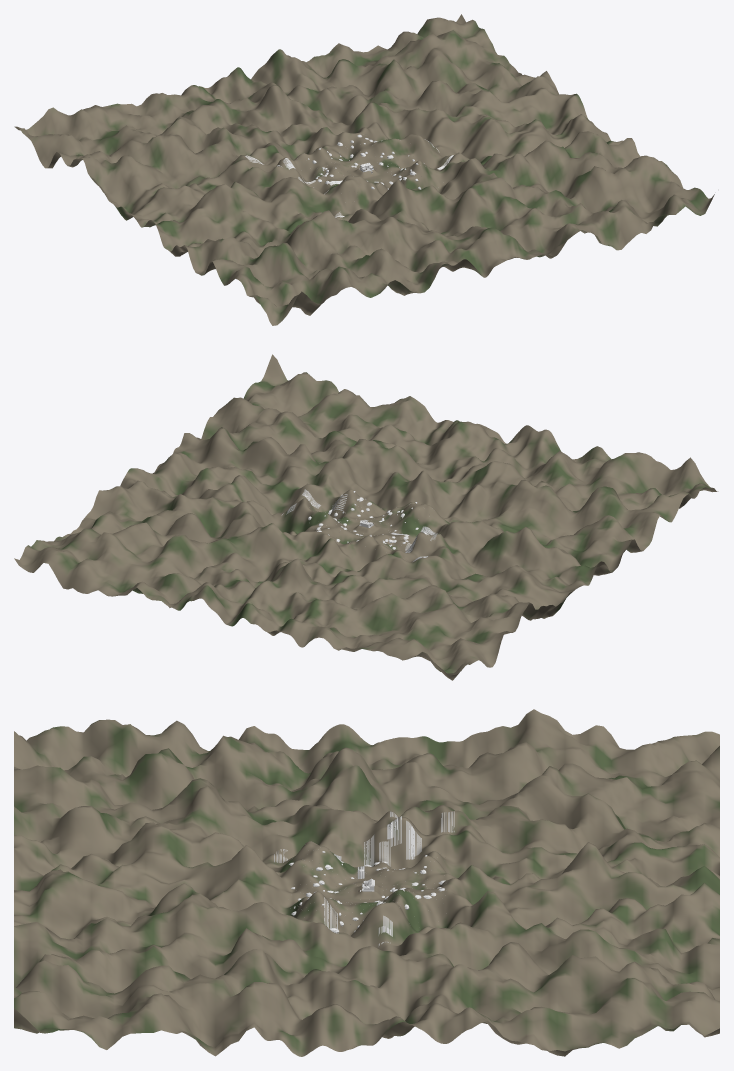
Rendered from ruijin.glb.
3 renders of one model, top to bottom at view 1: azimuth 30°, elevation 25°; view 2: azimuth 150°, elevation 25°; view 3: azimuth 270°, elevation 25°, orthographic. The views are drawn at different scales.
Parts seen in each view (by area): view 1: Continuous terrain, Historic rock; view 2: Continuous terrain; view 3: Continuous terrain, Historic cropgreen, Historic cropgold, Historic rock.
Part boxes in pixels (box(x1,y1,x2,y2)): Continuous terrain: box(14, 14, 714, 325); Historic rock: box(308, 134, 424, 189); Continuous terrain: box(14, 354, 718, 680); Continuous terrain: box(14, 709, 719, 1056); Historic cropgreen: box(276, 811, 454, 945); Historic cropgold: box(274, 811, 452, 946); Historic rock: box(289, 851, 445, 932).
Bounding box in the file's own units: 426 × 45.38 × 426.
Materials: 26 (6 with a texture image).
